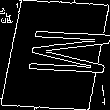M_E: (2, 30, 108, 80)
